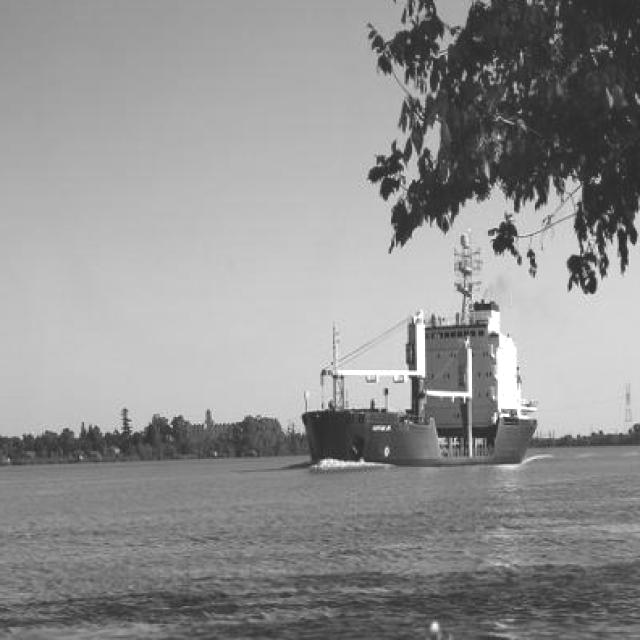ship: (301, 230, 547, 470)
